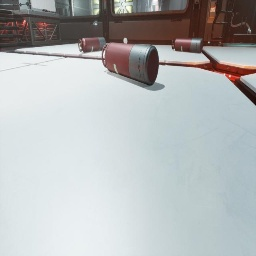0: (123, 38, 128, 44)
FireAlarm ,: (103, 0, 106, 2)
NitrogenTank ,: (101, 42, 159, 86), (172, 37, 203, 53), (78, 37, 106, 53)
SafetySwitchPanel ,: (207, 0, 217, 23)
